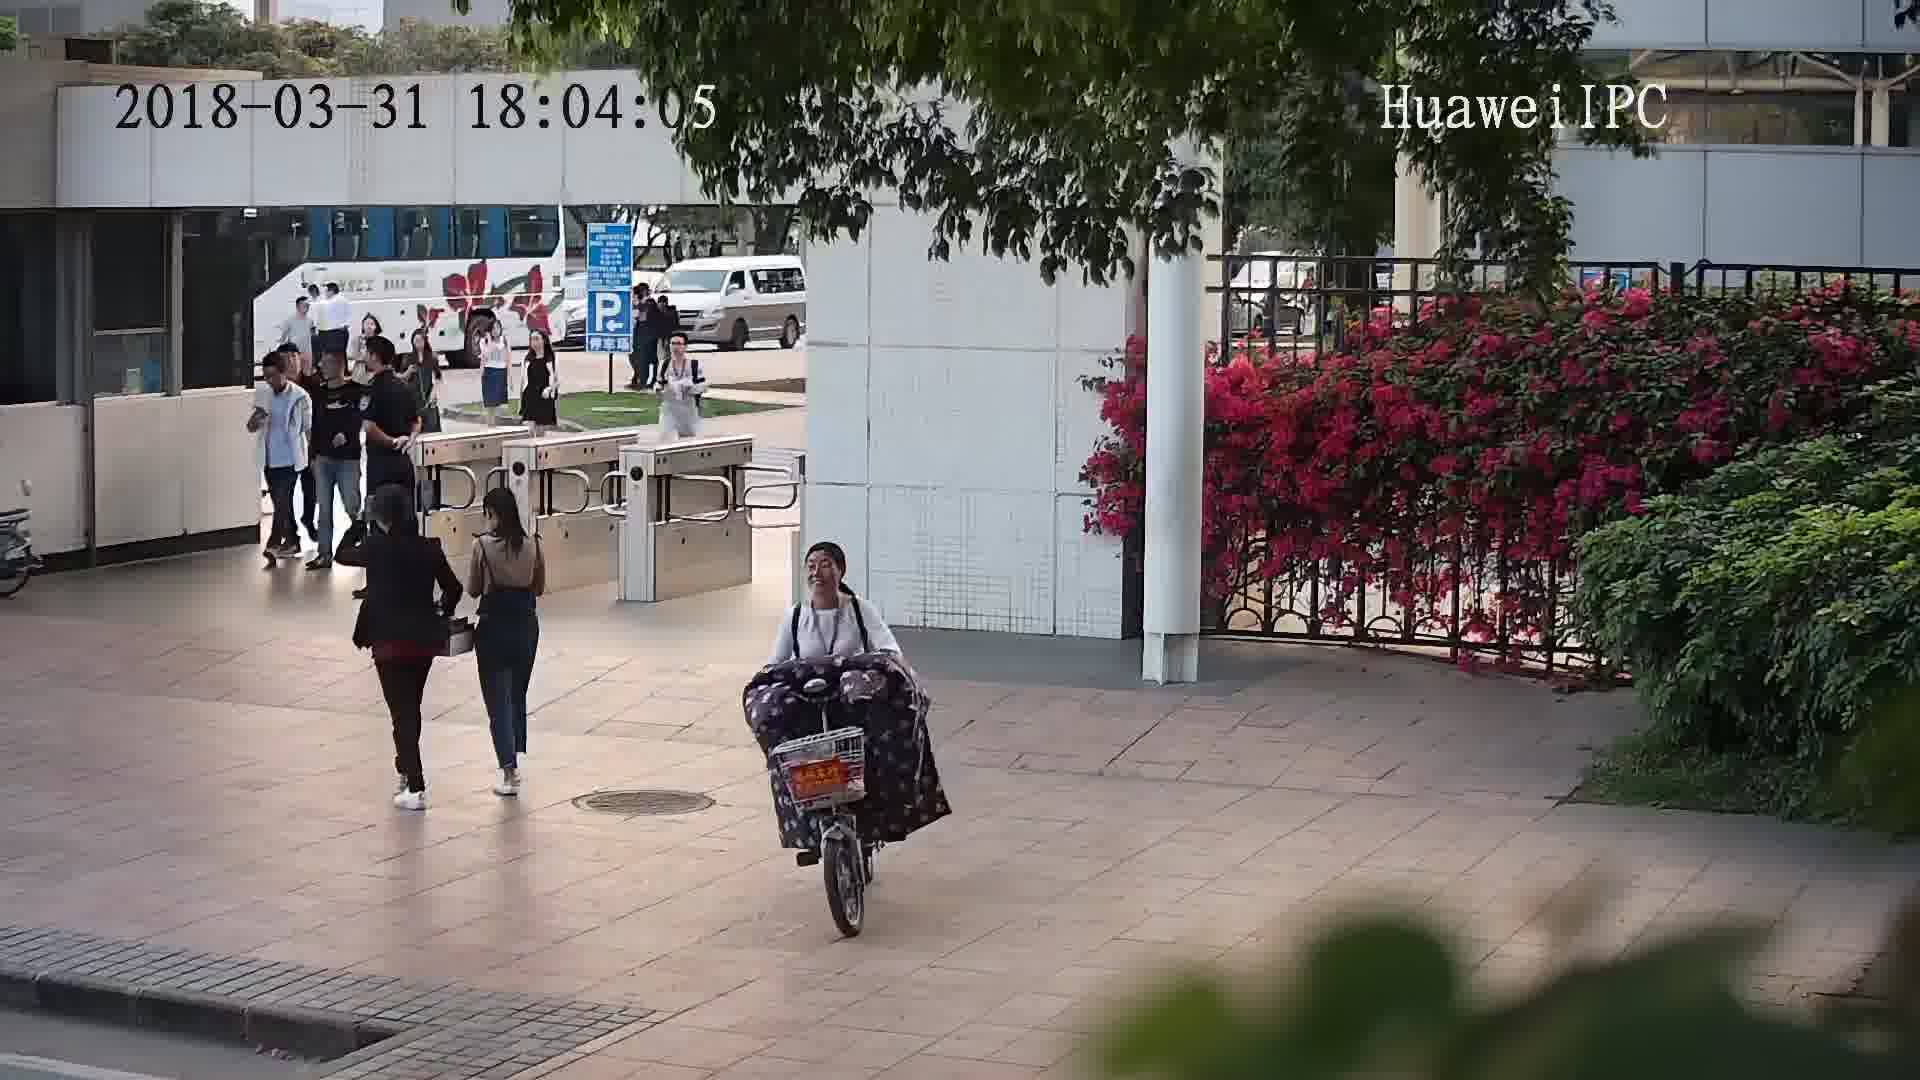face: (802, 551, 843, 592)
person: (781, 539, 879, 633), (344, 482, 442, 565), (469, 480, 543, 555), (253, 347, 310, 408), (311, 340, 365, 401), (365, 337, 412, 400), (404, 322, 442, 371), (520, 323, 559, 367), (659, 327, 698, 369), (282, 296, 319, 334), (478, 313, 512, 353), (353, 311, 392, 344), (314, 278, 347, 312)
